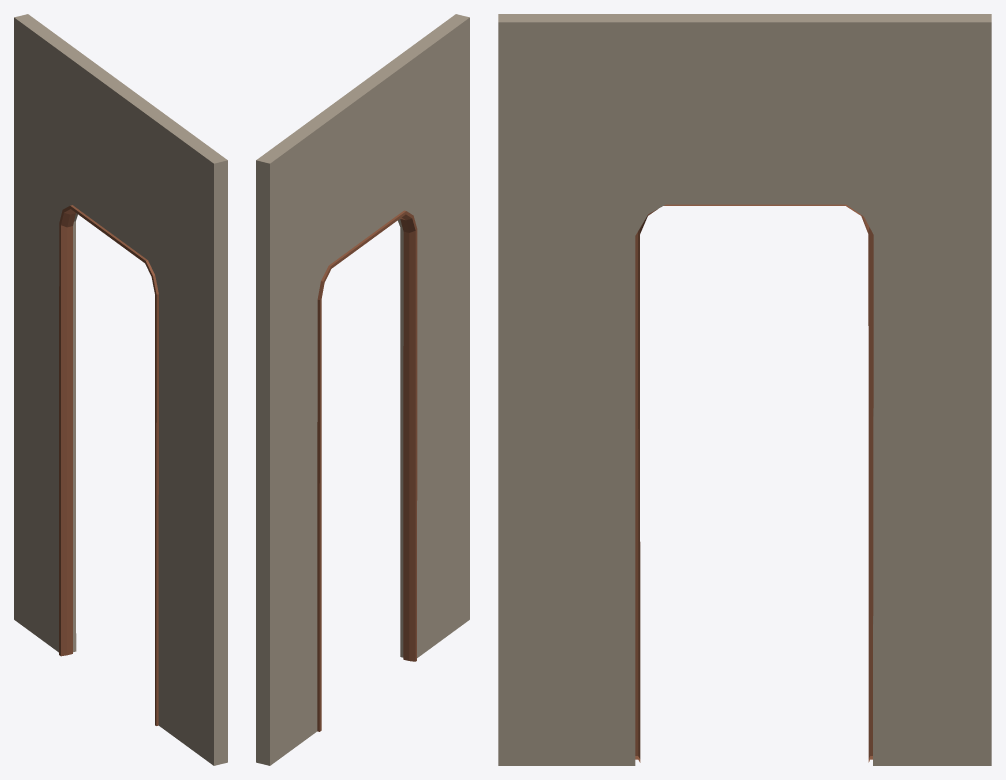
File: SM_Door_Circle_04.FBX
The picture shows the model from 3 angles, left to right: view 1: azimuth 30°, elevation 25°; view 2: azimuth 150°, elevation 25°; view 3: azimuth 270°, elevation 25°; orthographic projection. The views are drawn at different scales.
Visible parts, largest first — view 1: SM_Door_Circle; view 2: SM_Door_Circle; view 3: SM_Door_Circle.
Boxes of the visible parts, x1,y1,x2,y2 form: SM_Door_Circle: (14,14,227,765); SM_Door_Circle: (256,14,469,765); SM_Door_Circle: (498,14,991,765).
Size of the model in its own units: 54.79 by 1926 by 1158.
